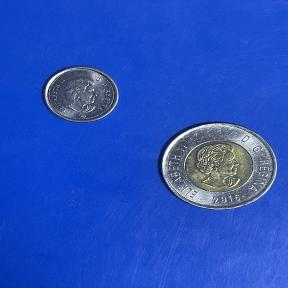coin: (153, 116, 285, 218), (38, 60, 122, 128)
